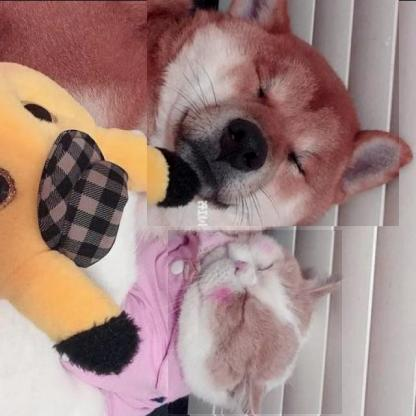cat: (168, 230, 342, 414)
dog: (147, 0, 399, 226)
